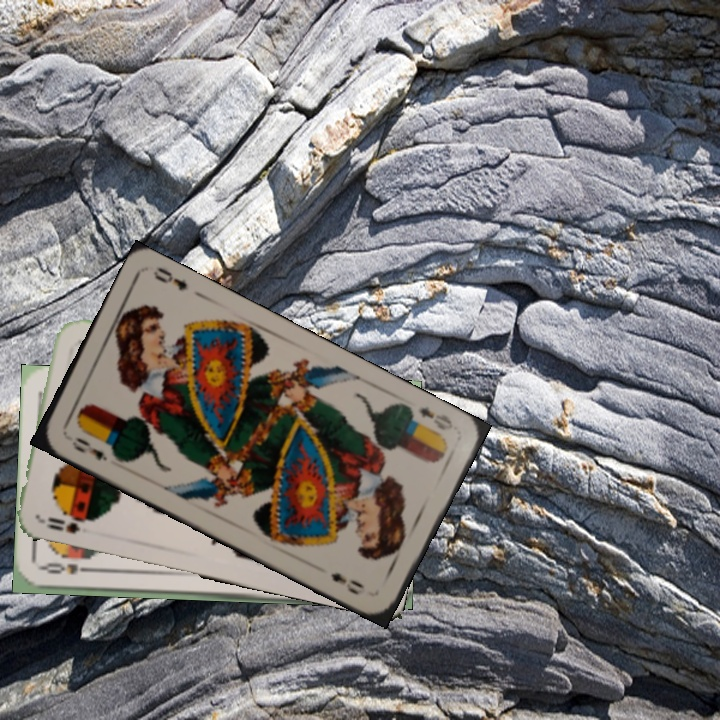EO: (67, 433, 110, 464), (414, 402, 456, 433)
SO: (38, 510, 98, 536), (38, 559, 97, 577)
